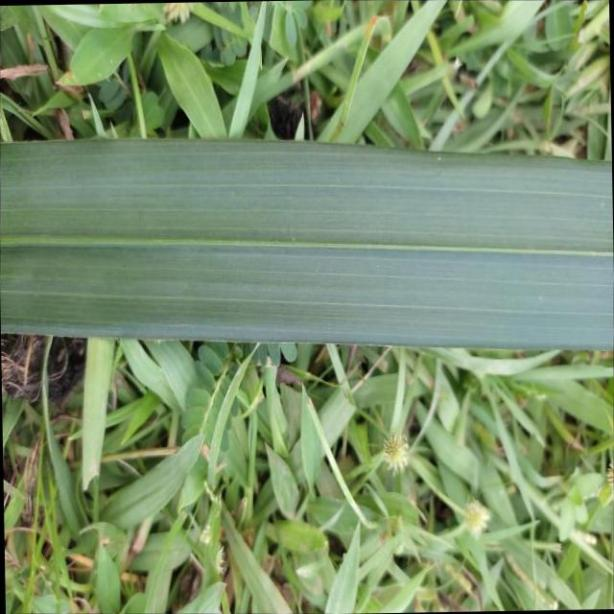Healthy: (0, 138, 613, 364)
